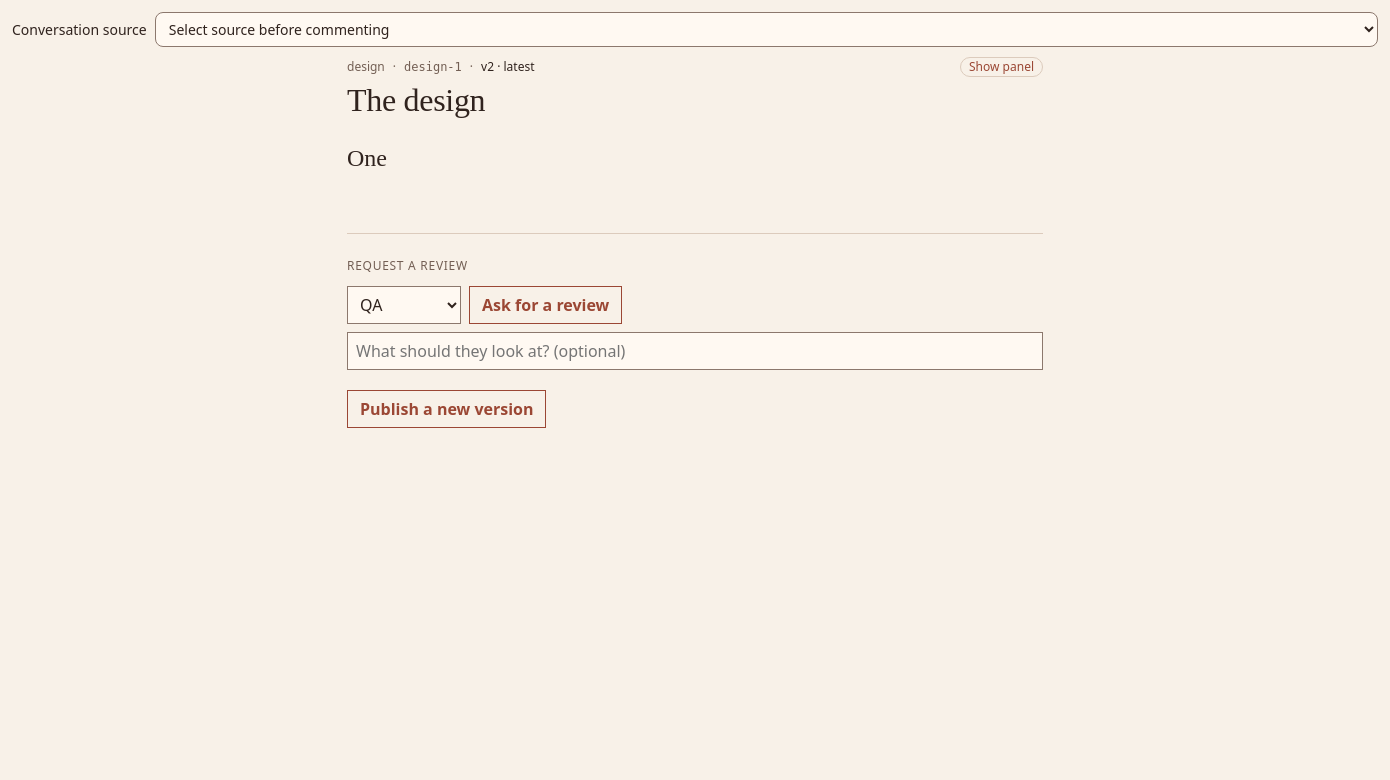
Scenario: DocView › opens in reader mode: no side pane, a Show panel toggle that reveals it and remembers the choice
Expected: the heading "One" is shown, [347,145,387,171]
Click the button "Show panel" at (1002, 67), box [960,57,1043,77]
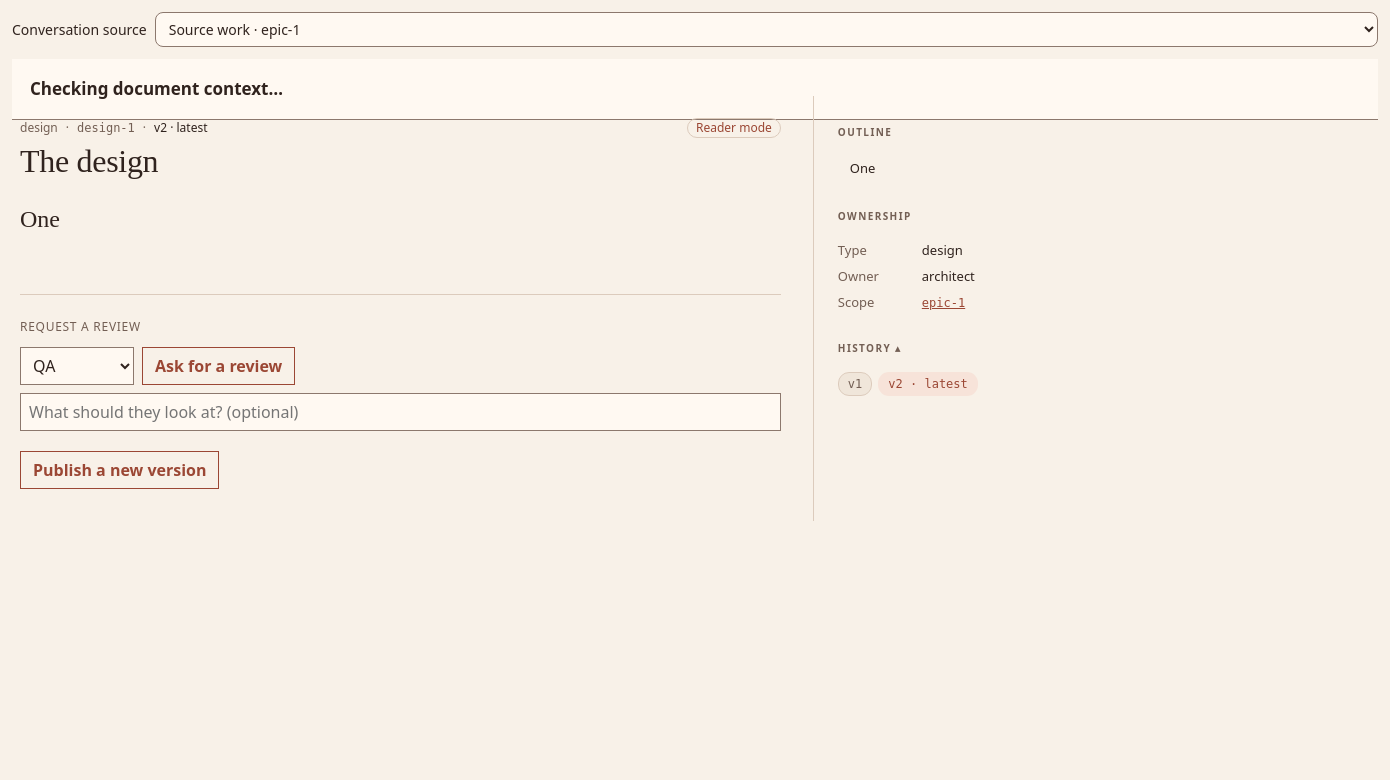
Result: the button with test id "doc-reader-toggle" reads "Reader mode"
Click the button with test id "doc-reader-toggle" at (734, 128), box [687,118,781,138]
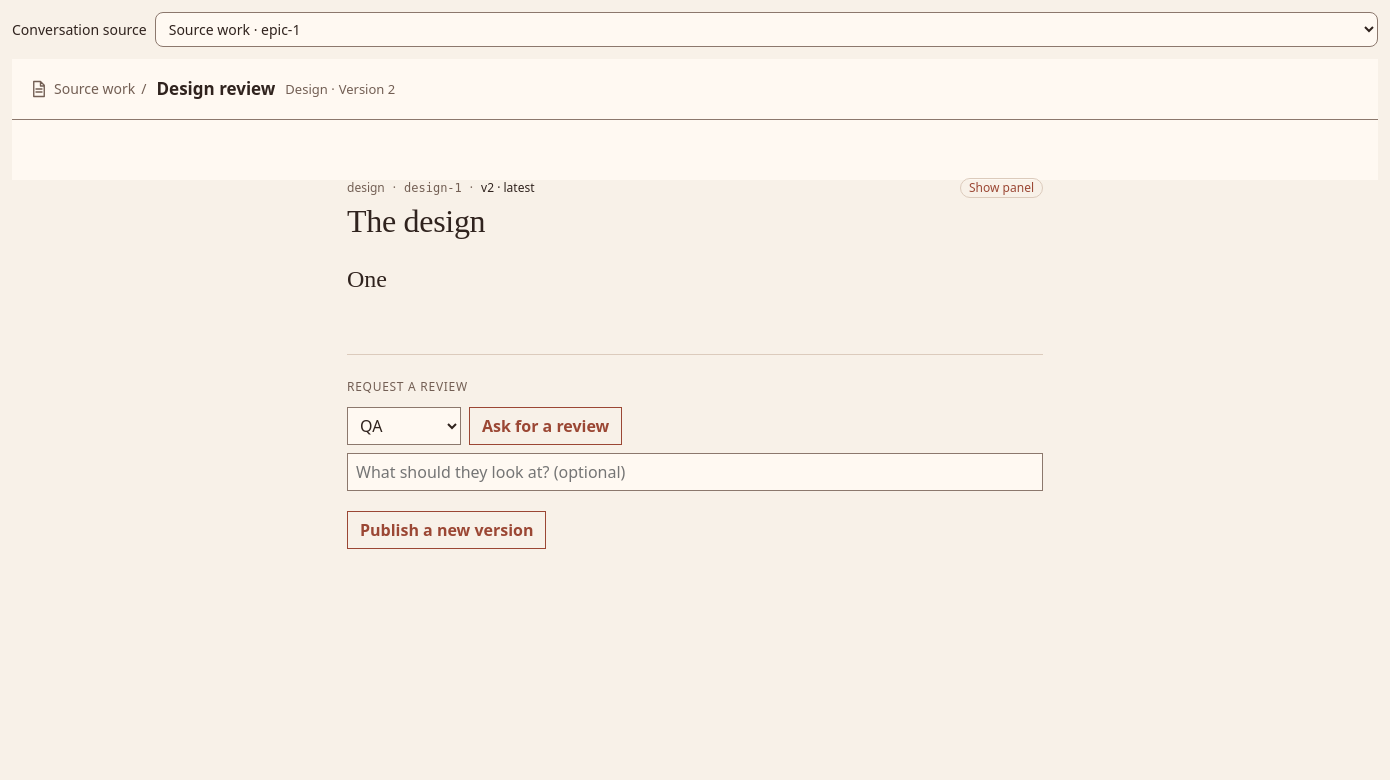
Result: the element with test id "doc-side" is gone
